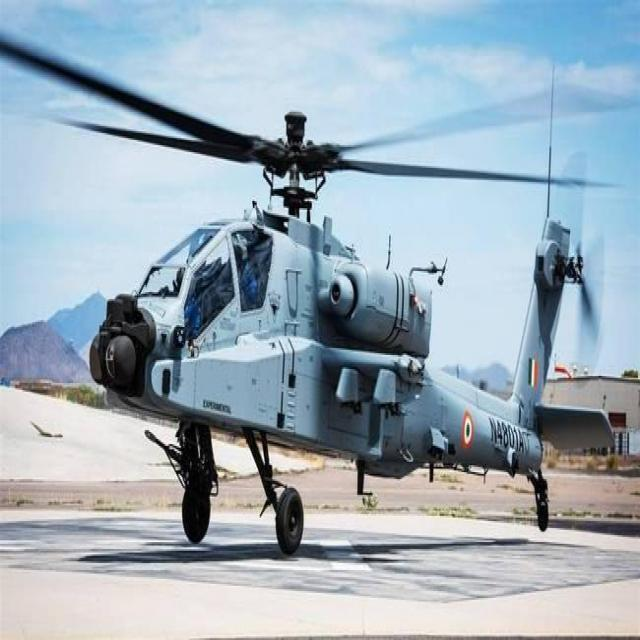MIL_HELO: (0, 29, 633, 566)
